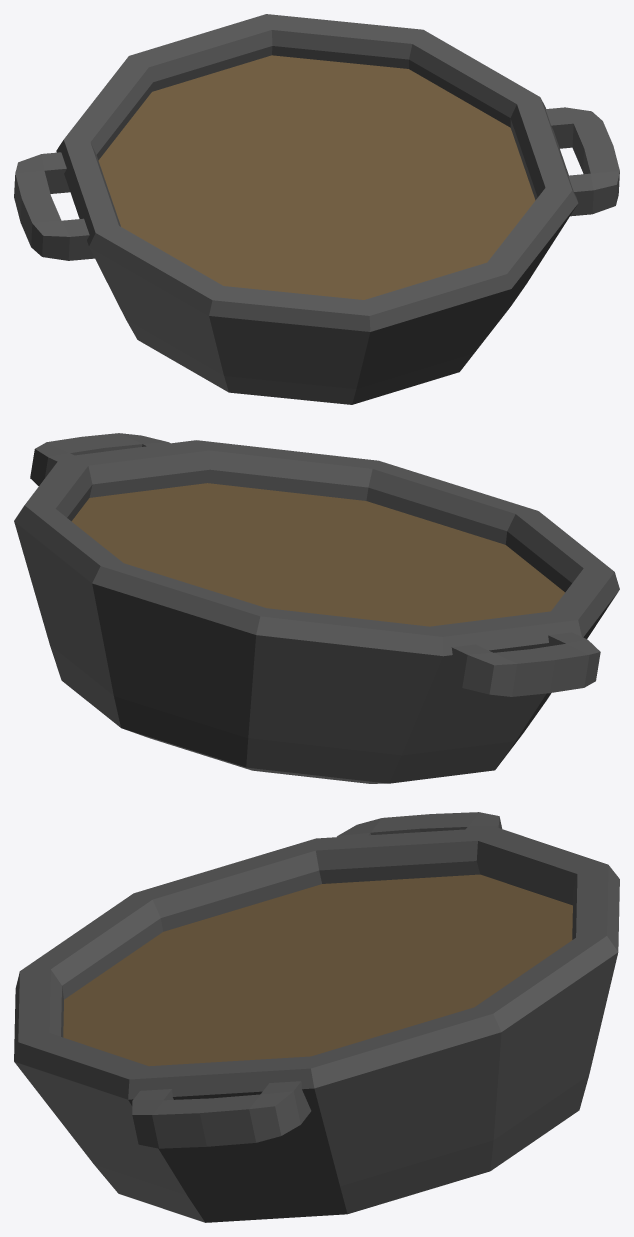
The model's file is pot.glb.
The picture shows the model from 3 angles, top to bottom: view 1: azimuth 30°, elevation 25°; view 2: azimuth 150°, elevation 25°; view 3: azimuth 270°, elevation 25°; orthographic projection. The views are drawn at different scales.
Visible parts, largest first — view 1: CookingPot2_Soup; view 2: CookingPot2_Soup; view 3: CookingPot2_Soup.
Boxes of the visible parts, x1=… form: CookingPot2_Soup: x1=14, y1=14, x2=619, y2=404; CookingPot2_Soup: x1=14, y1=433, x2=619, y2=783; CookingPot2_Soup: x1=14, y1=812, x2=619, y2=1222.
Bounding box in the file's own units: 1.09 × 0.4478 × 0.8936.
